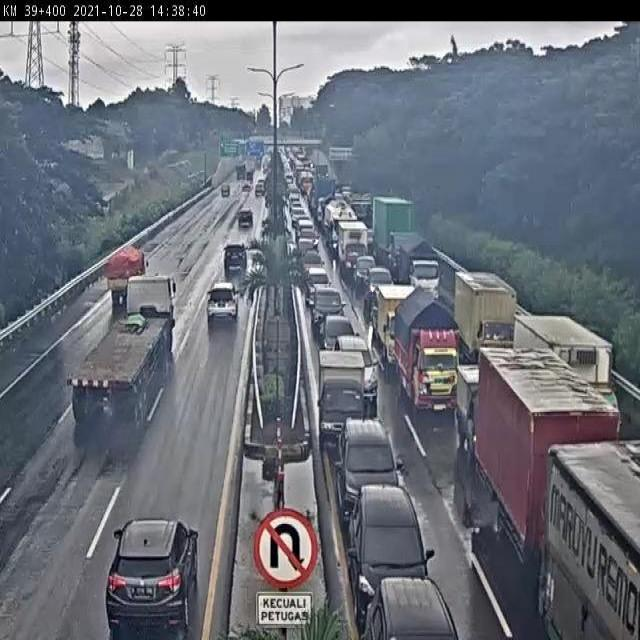big truck: (465, 328, 626, 577), (529, 424, 640, 640), (67, 266, 184, 434), (507, 306, 627, 451), (390, 285, 472, 419), (450, 261, 532, 364), (448, 264, 528, 365), (373, 274, 423, 374), (368, 187, 422, 270), (391, 228, 450, 300)
car: (333, 477, 451, 628), (102, 517, 201, 640), (334, 408, 407, 524), (350, 568, 464, 640), (330, 332, 387, 408), (306, 283, 351, 345), (315, 310, 361, 370), (202, 272, 242, 329), (362, 258, 403, 310), (300, 264, 336, 312), (348, 249, 383, 295), (220, 235, 252, 280), (297, 249, 329, 283), (294, 226, 322, 262), (232, 201, 256, 235)
small truck: (312, 344, 373, 457), (448, 352, 510, 463), (100, 236, 154, 315), (334, 216, 374, 277)
